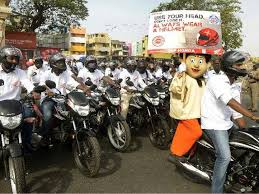helmet: (218, 49, 255, 84), (118, 55, 145, 78), (1, 46, 23, 73), (45, 51, 70, 73), (84, 52, 100, 74)
